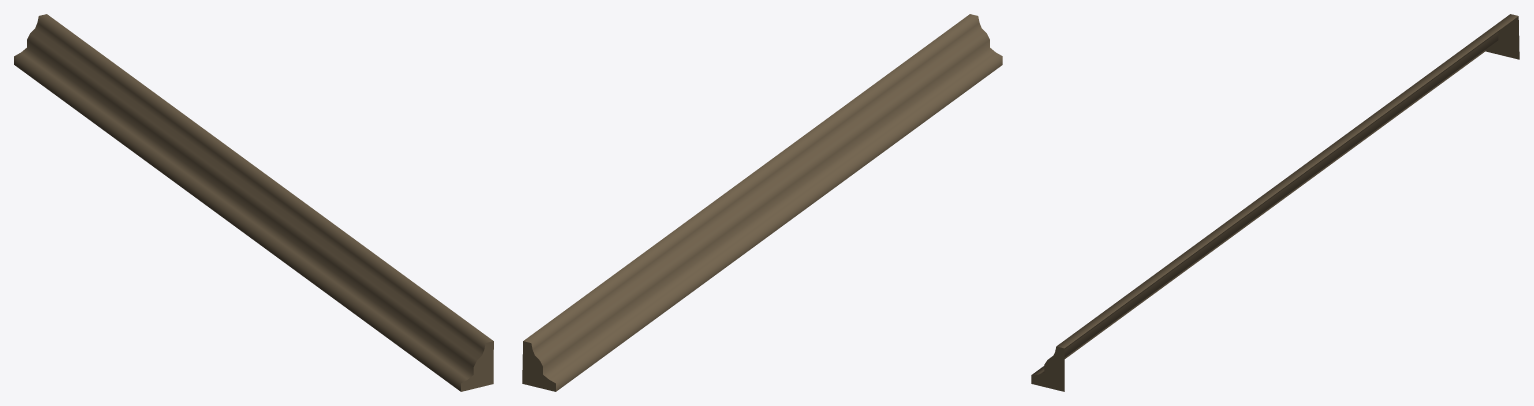
File: Plintus_01.fbx
3 views of the same model, side by side, from view 1: azimuth 30°, elevation 25°; view 2: azimuth 150°, elevation 25°; view 3: azimuth 330°, elevation 25° (orthographic).
Visible parts, largest first — view 1: CR_Plintus_01; view 2: CR_Plintus_01; view 3: CR_Plintus_01.
Part boxes in pixels (bbox=[...]): CR_Plintus_01: bbox=[14, 14, 493, 391]; CR_Plintus_01: bbox=[522, 14, 1002, 391]; CR_Plintus_01: bbox=[1031, 14, 1519, 391].
Bounding box in the file's own units: 0.0566 × 0.0688 × 1.3.
